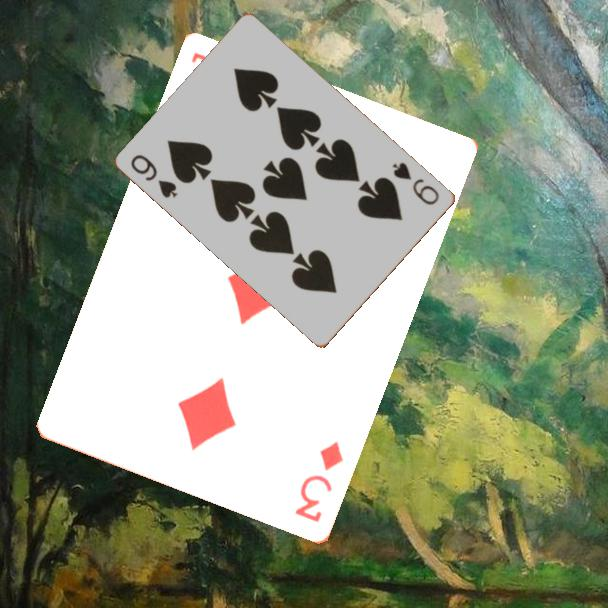d03: (292, 438, 347, 526)
s09: (389, 158, 443, 208), (128, 151, 181, 201)
